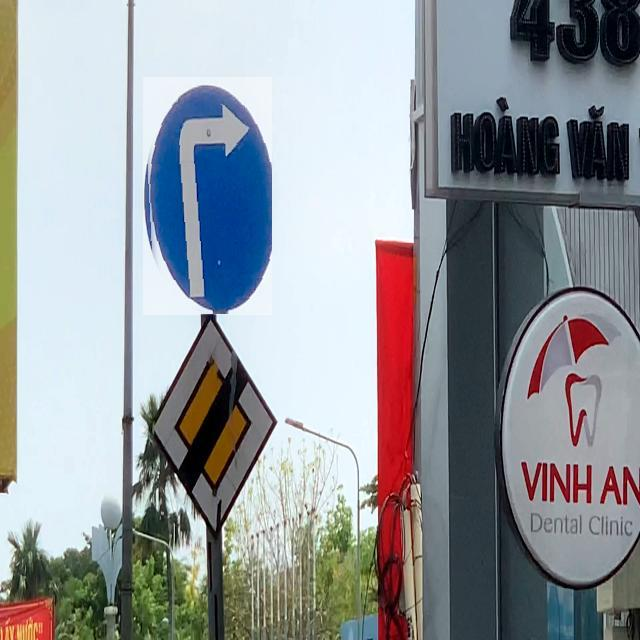R-301d: (143, 77, 272, 315)
